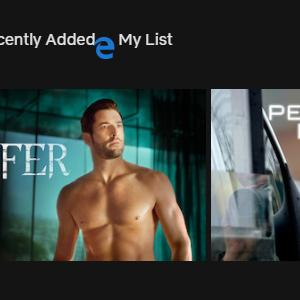edge: (93, 37, 115, 59)
